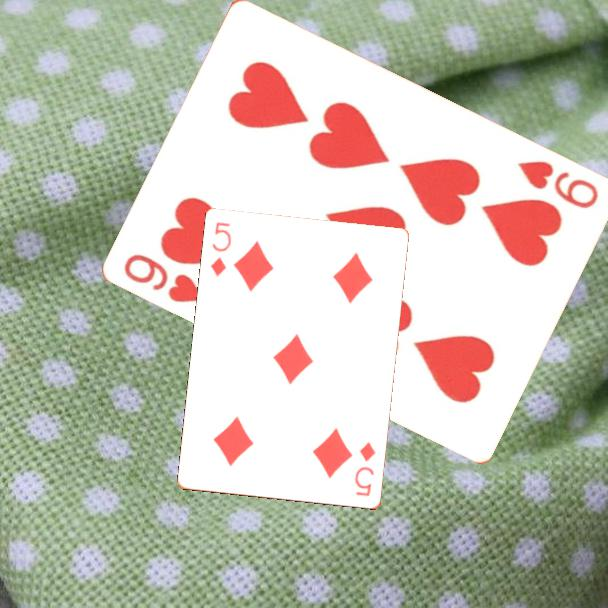d05: (351, 438, 379, 500), (207, 219, 234, 280)
h09: (121, 250, 208, 306), (514, 157, 602, 211)
